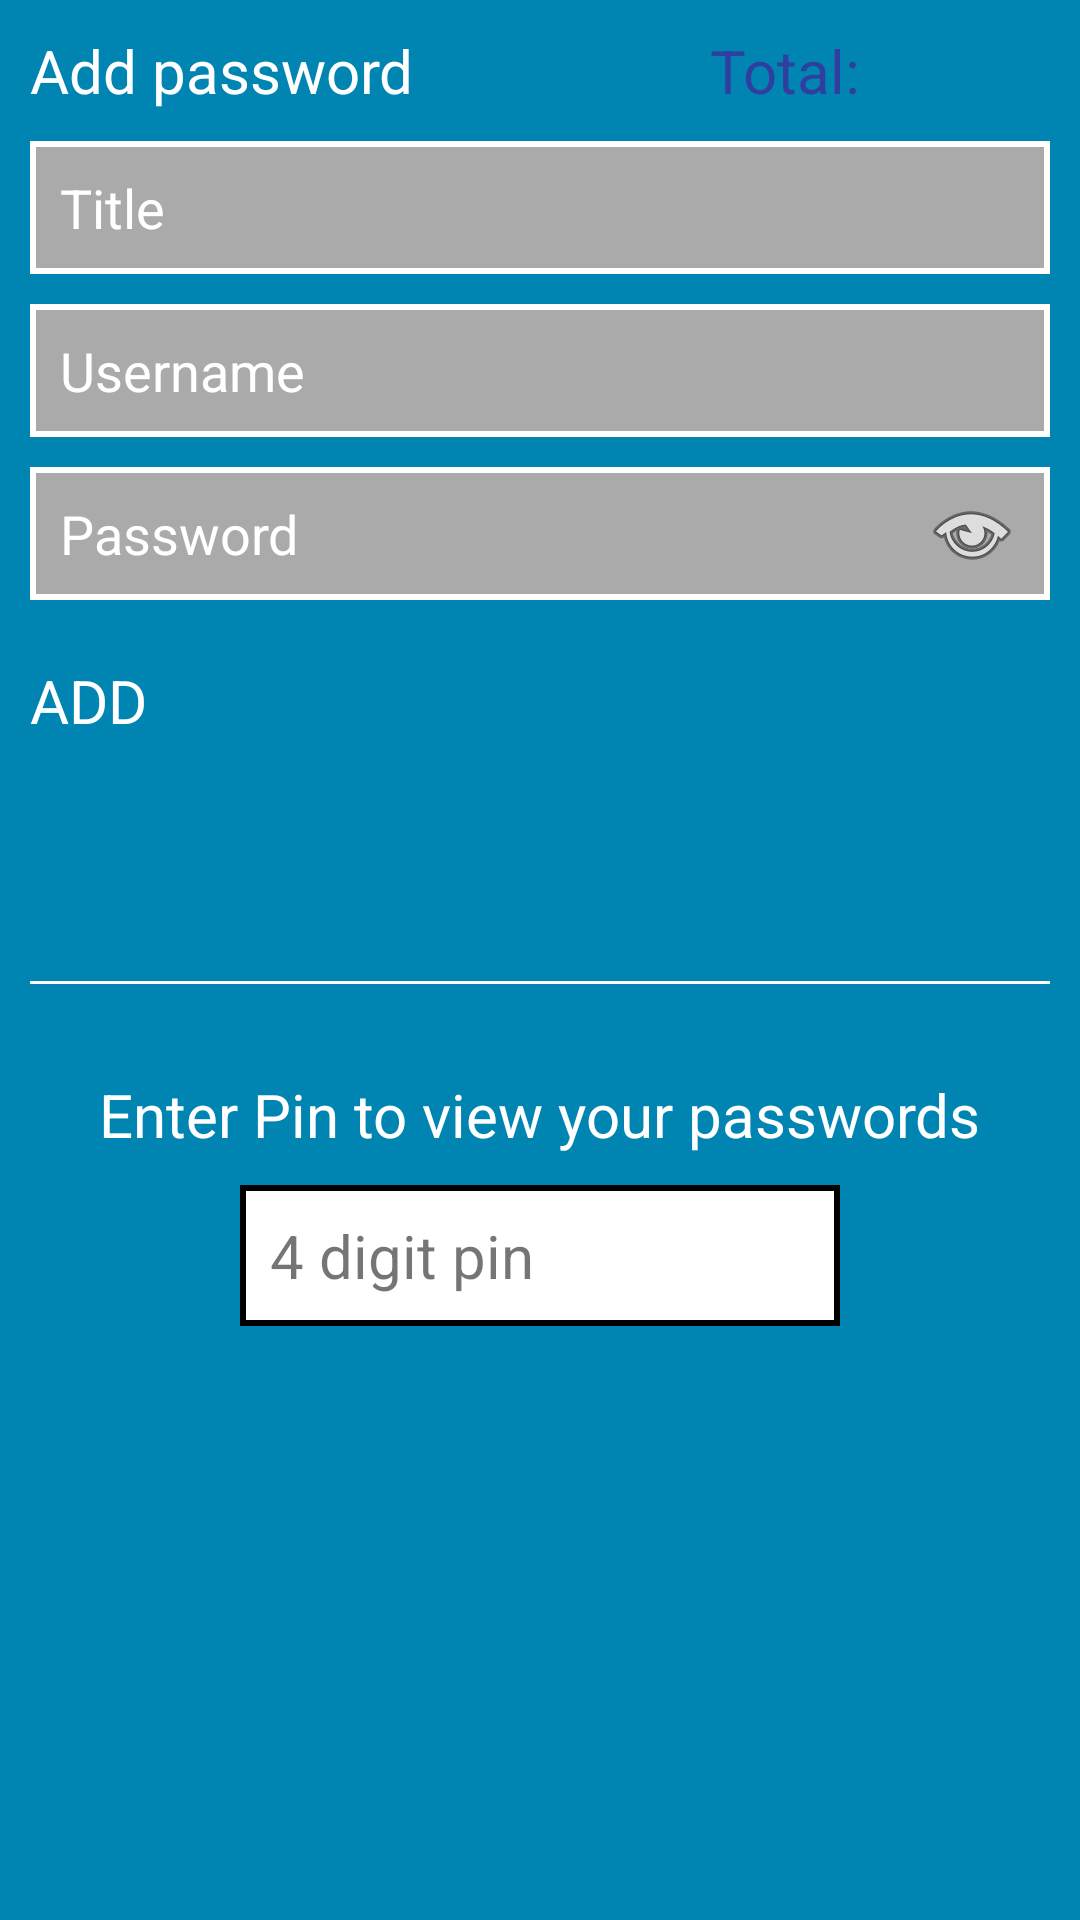

Icons on this 1080x1920 Android screen, each with the point to tap as (x=x, y=y):
view: (x=972, y=535)
